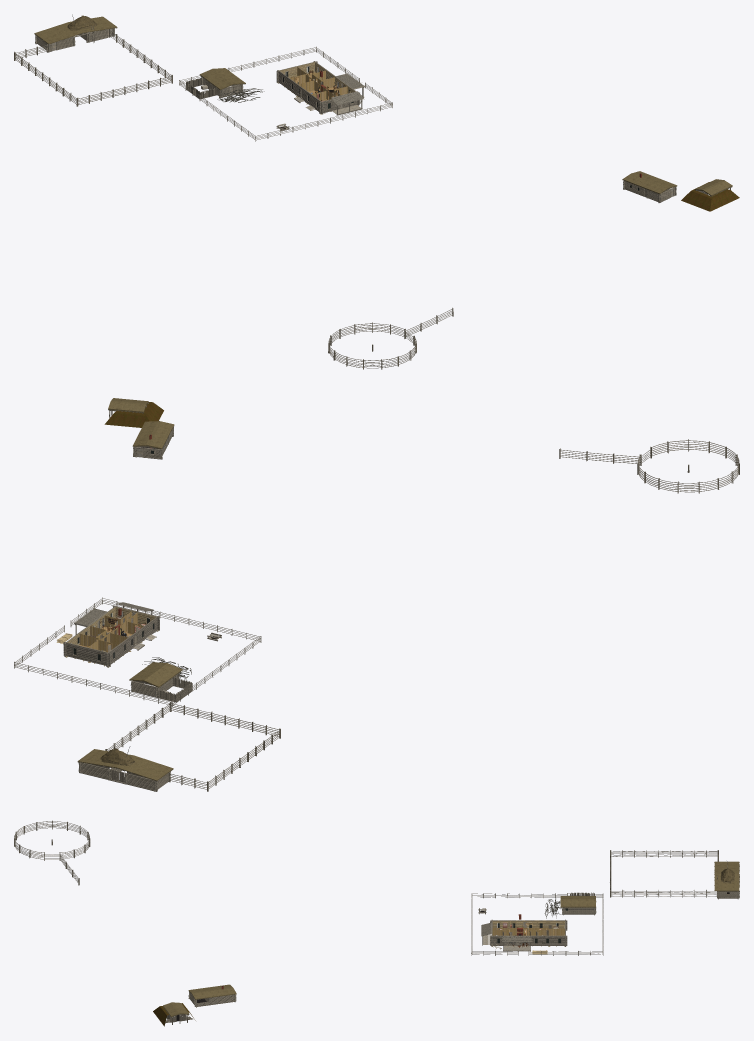
Rendered from elkhorn_site_open.glb.
3 views of the same model, one above another, from view 1: azimuth 30°, elevation 25°; view 2: azimuth 150°, elevation 25°; view 3: azimuth 270°, elevation 25° (orthographic). The views are drawn at different scales.
Parts seen in each view (by area): view 1: fences_pole, corral_pole, house_log, interior_pine, fences_post, barn_sod, dugout_grass, blacksmith_sod, barn_rlog, shed_sod; view 2: fences_pole, corral_pole, house_log, interior_pine, barn_rlog, barn_sod, fences_post, dugout_grass, blacksmith_sod, shed_sod; view 3: fences_pole, corral_pole, house_log, barn_sod, interior_pine, blacksmith_sod, fences_post, house_ilog, shed_sod.
Part boxes in pixels (<box>): fences_pole: <box>15,30,392,140</box>; corral_pole: <box>328,309,452,368</box>; house_log: <box>277,61,363,115</box>; interior_pine: <box>290,67,347,101</box>; fences_post: <box>14,29,392,141</box>; barn_sod: <box>34,16,116,44</box>; dugout_grass: <box>681,182,739,211</box>; blacksmith_sod: <box>622,171,677,194</box>; barn_rlog: <box>35,28,114,52</box>; shed_sod: <box>199,68,245,89</box>; fences_pole: <box>15,598,279,789</box>; corral_pole: <box>560,440,739,492</box>; house_log: <box>63,605,159,666</box>; interior_pine: <box>79,611,143,652</box>; barn_rlog: <box>78,762,171,791</box>; barn_sod: <box>77,749,173,780</box>; fences_post: <box>14,597,280,791</box>; dugout_grass: <box>104,402,163,427</box>; blacksmith_sod: <box>132,421,174,449</box>; shed_sod: <box>129,662,182,687</box>; fences_pole: <box>472,851,718,954</box>; corral_pole: <box>14,821,89,882</box>; house_log: <box>482,919,567,951</box>; barn_sod: <box>714,861,739,891</box>; interior_pine: <box>492,921,564,935</box>; blacksmith_sod: <box>188,984,236,999</box>; fences_post: <box>471,850,718,955</box>; house_ilog: <box>492,920,564,930</box>; shed_sod: <box>560,896,595,907</box>.
Size of the model in its own units: 115 by 6.61 by 179.
Materials: 51 (51 with a texture image).
